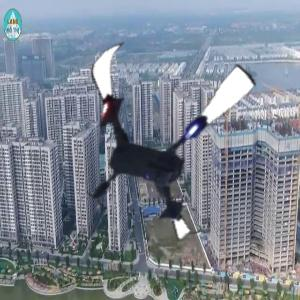drone: (51, 25, 266, 240)
